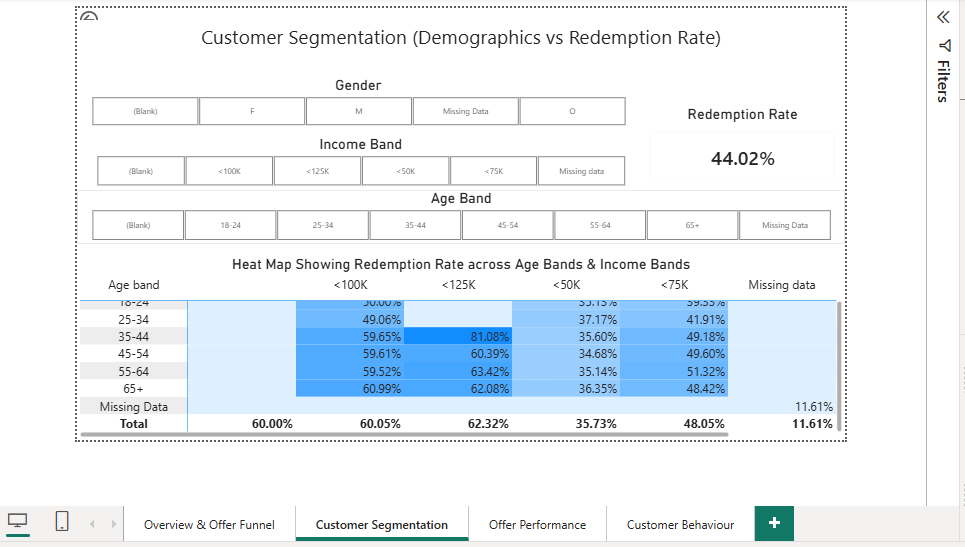

The page's visual inventory and layout, read from the dashboard file:
{"tool":"powerbi","page":{"name":"Customer Segmentation","canvas":[1280,720],"ordinal":1},"visuals":[{"type":"actionButton","box":[0,0,100,40],"z":0},{"type":"slicer","title":"Age Band","fields":{"Values":["customers.Age band"]},"box":[0,303.3,1280.3,90.5],"z":1000},{"type":"slicer","title":"Income Band","fields":{"Values":["customers.Income band"]},"box":[8.6,214,929.4,89.3],"z":2000},{"type":"cardVisual","title":"Redemption Rate","fields":{"Data":["events.Redemption rate"]},"box":[937.9,163.9,342.4,139.4],"z":3000},{"type":"slicer","title":"Gender","fields":{"Values":["customers.gender"]},"box":[0,114.9,937.9,86.8],"z":4000},{"type":"pivotTable","title":"Heat Map Showing Redemption Rate across Age Bands & Income Bands","fields":{"Rows":["customers.Age band"],"Columns":["customers.Income band"],"Values":["events.Redemption rate"]},"box":[0,413.3,1280.3,306.9],"z":5000},{"type":"textbox","box":[0,19.6,1280.3,67.3],"z":6000}]}

Visuals, with their boxes on the page's 1280x720 design canvas (x1, y1, x2, y2). These are canvas units, not pixel positions in the 965x547 screenshot, which may show the page scaled, cropped or inside an application window:
actionButton: x1=0 y1=0 x2=100 y2=40
"Age Band" slicer: x1=0 y1=303 x2=1280 y2=394
"Income Band" slicer: x1=9 y1=214 x2=938 y2=303
"Redemption Rate" cardVisual: x1=938 y1=164 x2=1280 y2=303
"Gender" slicer: x1=0 y1=115 x2=938 y2=202
"Heat Map Showing Redemption Rate across Age Bands & Income Bands" pivotTable: x1=0 y1=413 x2=1280 y2=720
textbox: x1=0 y1=20 x2=1280 y2=87
